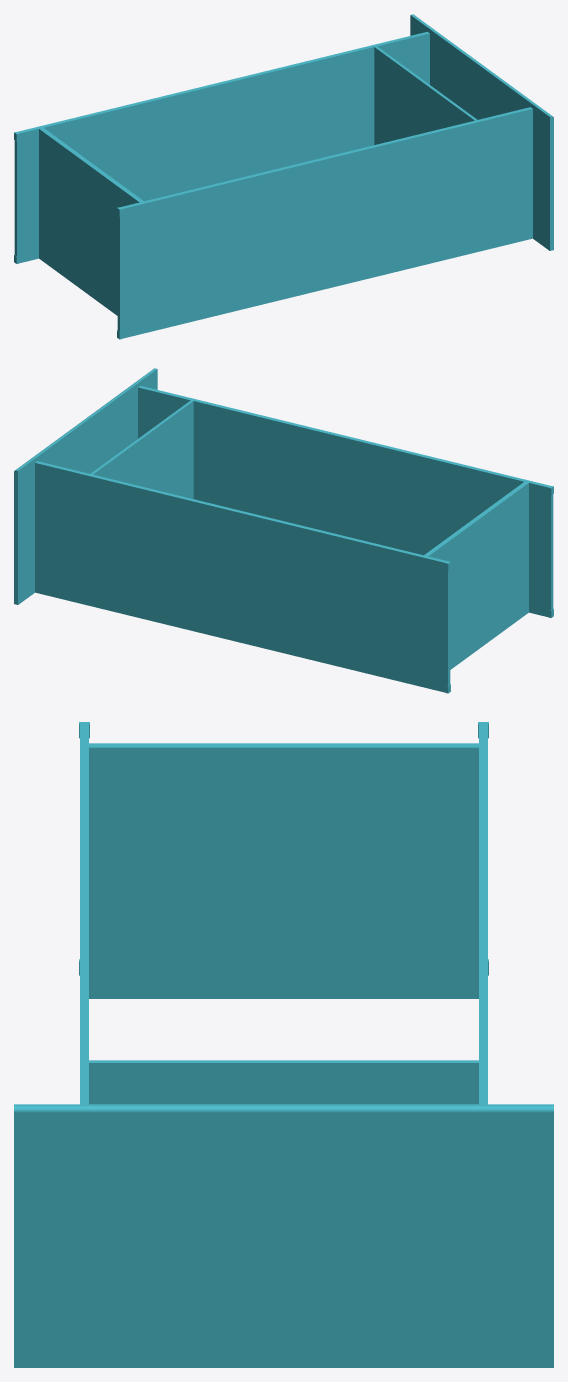
3 views of the same model, one above another, from view 1: azimuth 30°, elevation 25°; view 2: azimuth 150°, elevation 25°; view 3: azimuth 270°, elevation 25° (orthographic). The views are drawn at different scales.
Parts seen in each view (by area): view 1: Renderer Node; view 2: Renderer Node; view 3: Renderer Node.
Part boxes in pixels (x1,y1,x2,y2): Renderer Node: (14,14,553,339); Renderer Node: (14,368,553,693); Renderer Node: (14,722,553,1367).
Size of the model in its own units: 0.8363 by 0.2582 by 0.4837.
Materials: 1 (1 with a texture image).
